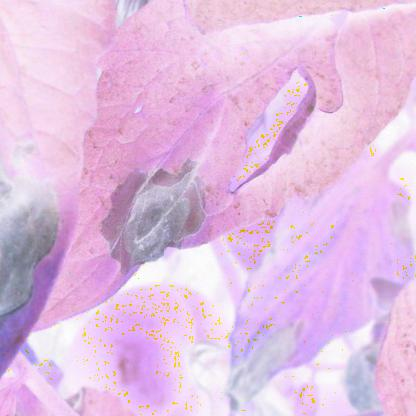tomato leaf late blight: (52, 7, 415, 301)
